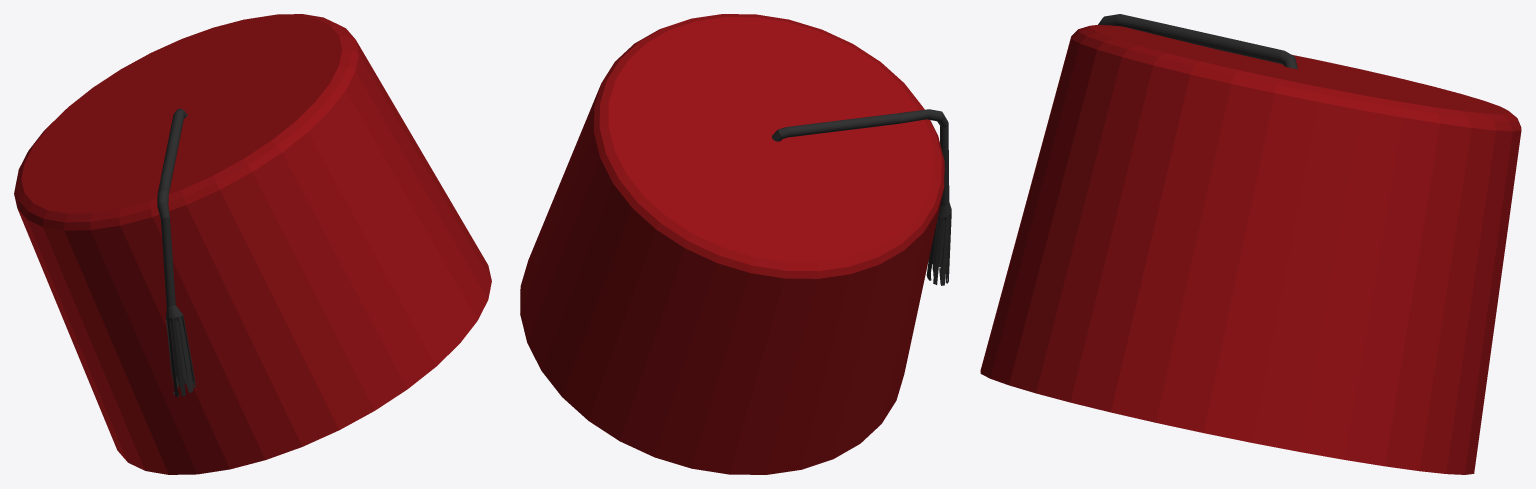
Rendered from fez.glb.
3 renders of one model, left to right at view 1: azimuth 30°, elevation 25°; view 2: azimuth 150°, elevation 25°; view 3: azimuth 270°, elevation 25°, orthographic. The views are drawn at different scales.
Parts seen in each view (by area): view 1: Circle; view 2: Circle; view 3: Circle.
Part boxes in pixels (left/top/right/bottom): Circle: left=14, top=14, right=491, bottom=474; Circle: left=520, top=14, right=951, bottom=474; Circle: left=980, top=14, right=1521, bottom=474.
Bounding box in the file's own units: 2.17 × 1.96 × 2.04.
